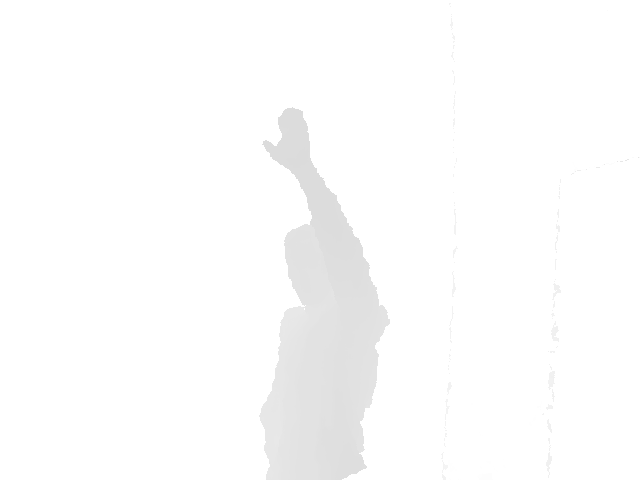hand: (261, 106, 316, 166)
head: (283, 222, 334, 307)
person: (258, 106, 392, 480)
